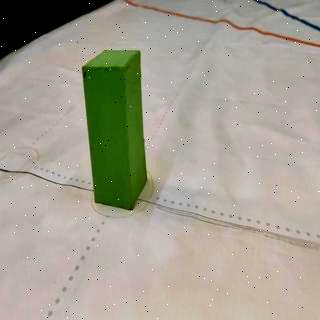greenbox: (80, 48, 148, 210)
